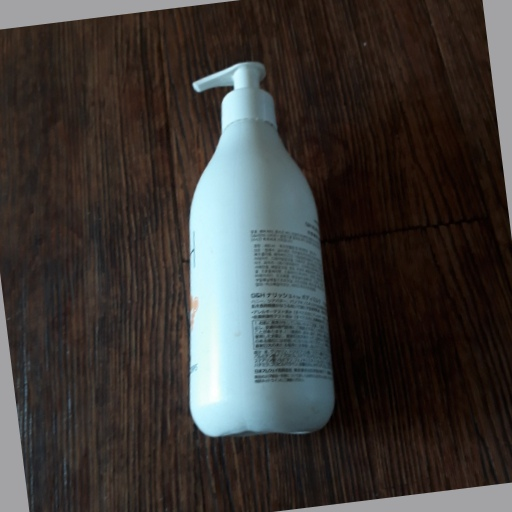Plastic_3: (183, 61, 338, 440)
